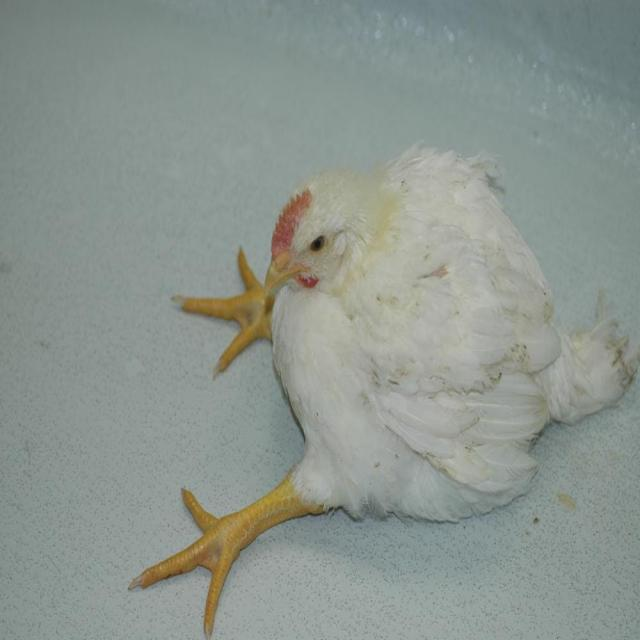AbNormal: (140, 140, 636, 617)
